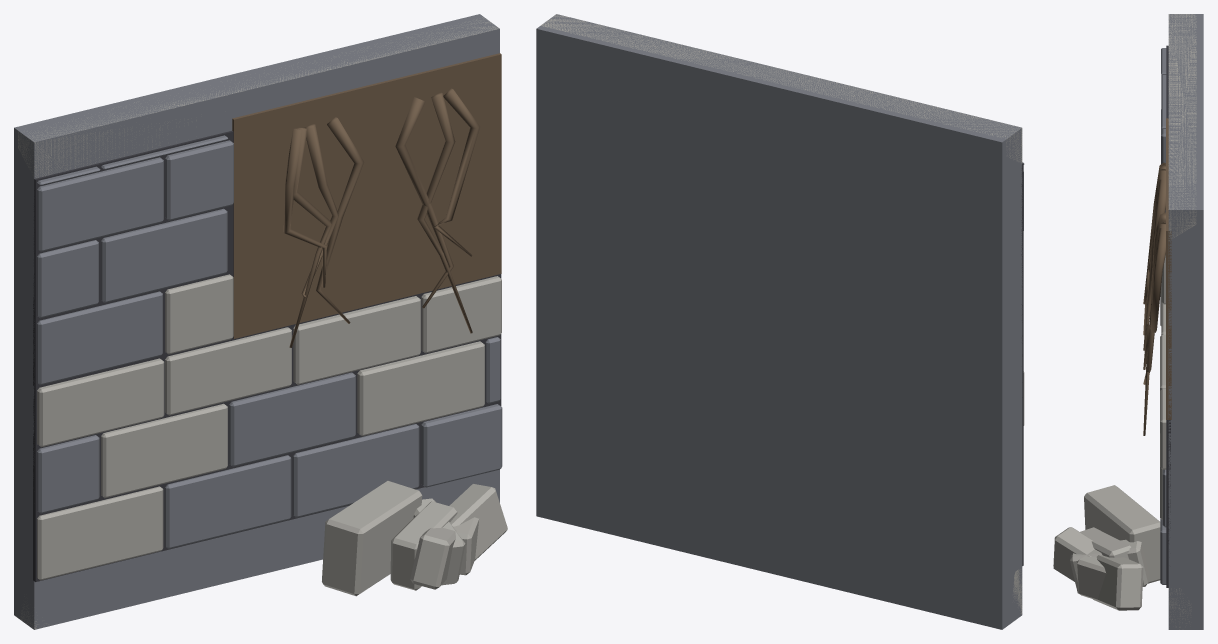
File: wall_cr_broken.glb
3 renders of one model, left to right at view 1: azimuth 30°, elevation 25°; view 2: azimuth 150°, elevation 25°; view 3: azimuth 270°, elevation 25°, orthographic. The views are drawn at different scales.
Visible parts, largest first — view 1: wall_cr_broken; view 2: wall_cr_broken; view 3: wall_cr_broken.
Boxes of the visible parts, bbox=[...] form: wall_cr_broken: bbox=[14, 14, 507, 629]; wall_cr_broken: bbox=[536, 14, 1024, 629]; wall_cr_broken: bbox=[1053, 14, 1203, 629].
Bounding box in the file's own units: 4 × 4.08 × 1.3.
